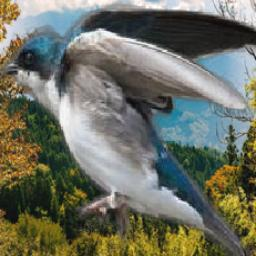Swallow: (0, 1, 256, 256)
